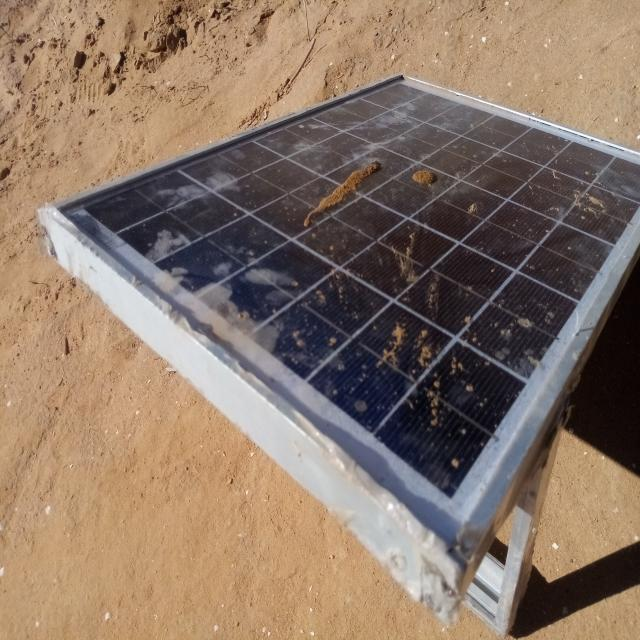faulty: (51, 72, 640, 558)
